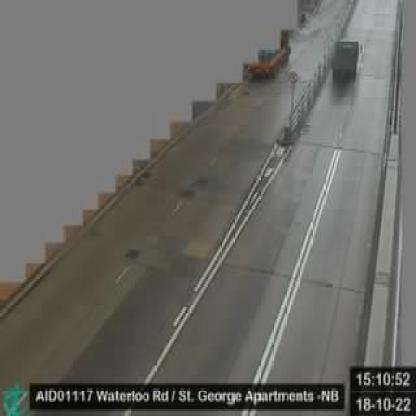Truck: (330, 38, 362, 84)
